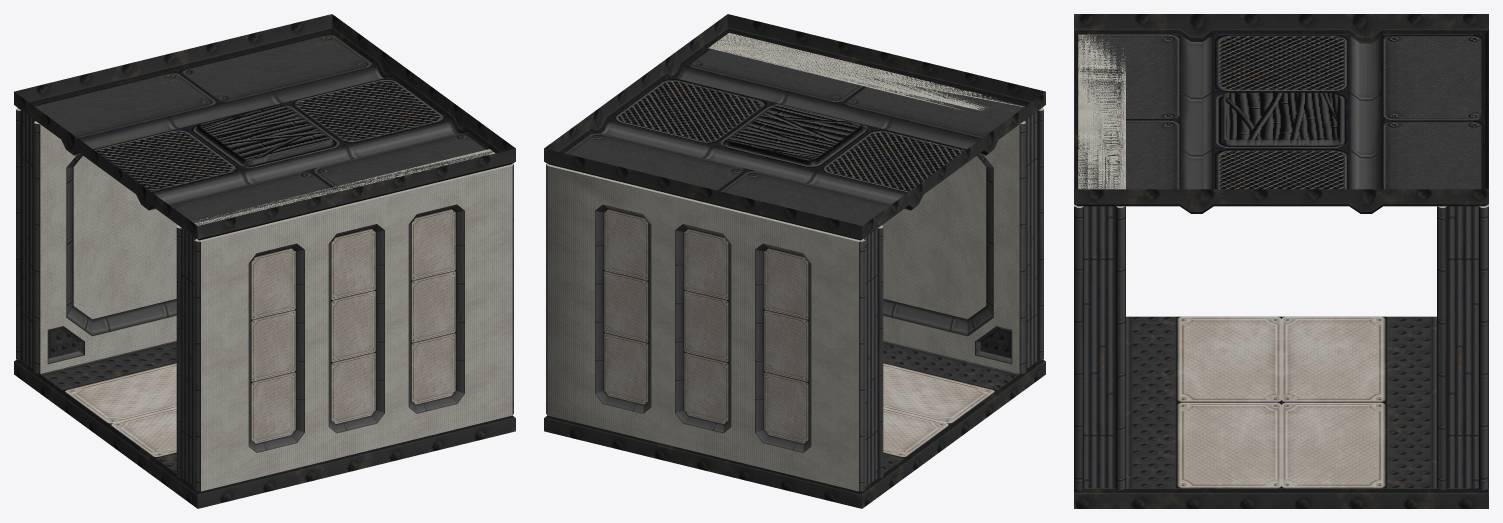
Rendered from Corridor_Corridor_Broken.fbx.
3 renders of one model, left to right at view 1: azimuth 30°, elevation 25°; view 2: azimuth 150°, elevation 25°; view 3: azimuth 270°, elevation 25°, orthographic. The views are drawn at different scales.
Parts seen in each view (by area): view 1: Corridor_Corridor_Broken; view 2: Corridor_Corridor_Broken; view 3: Corridor_Corridor_Broken.
Boxes of the visible parts, bbox=[...] form: Corridor_Corridor_Broken: bbox=[14, 14, 515, 508]; Corridor_Corridor_Broken: bbox=[544, 14, 1045, 508]; Corridor_Corridor_Broken: bbox=[1074, 14, 1488, 508].
Bounding box in the file's own units: 400 × 340 × 400.
